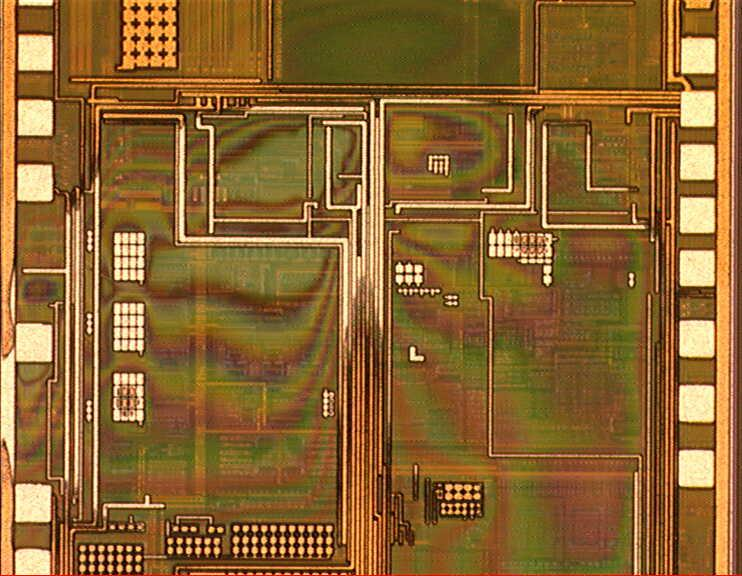COATING BAD: (1, 1, 663, 576)
